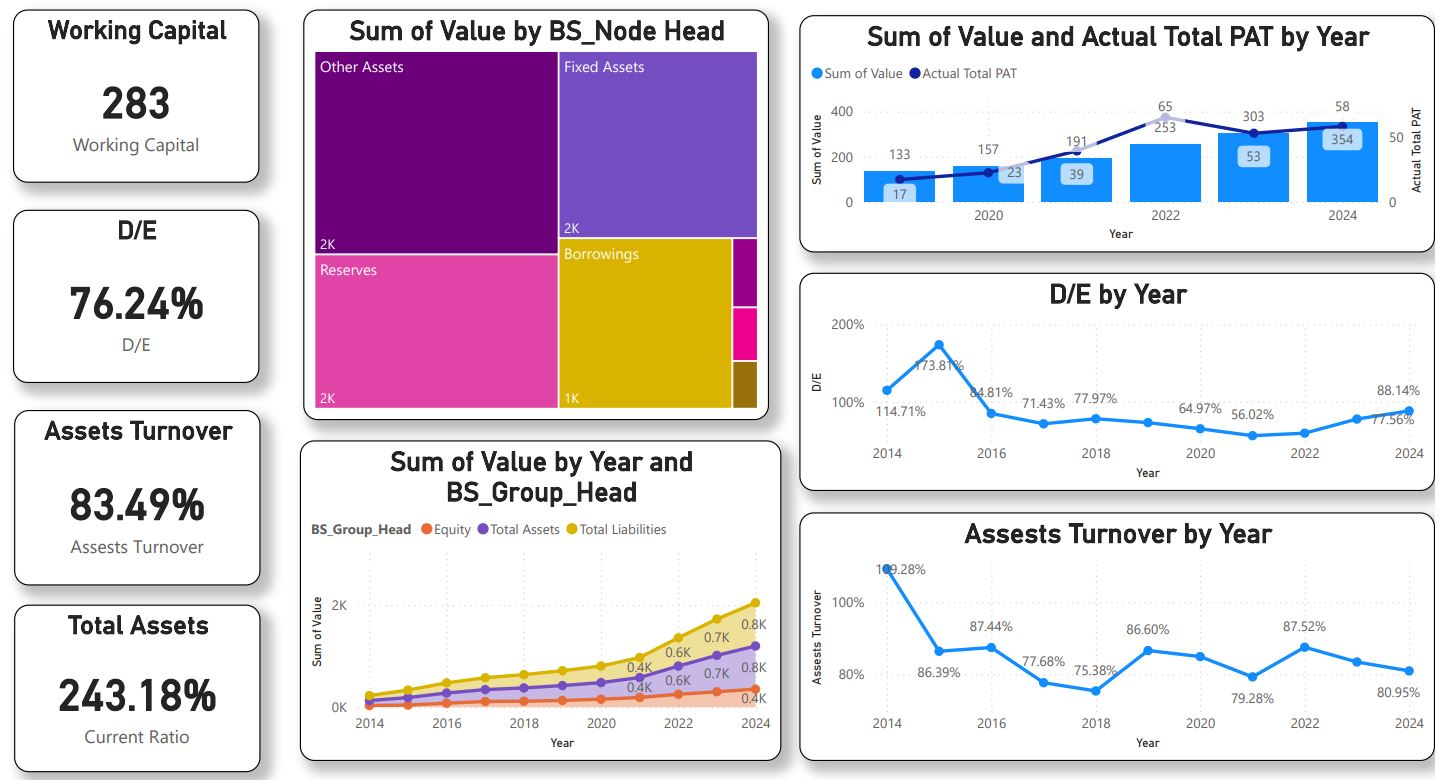

This screenshot's page, from the dashboard's own definition file:
{"tool":"powerbi","page":{"name":"BS Analysis","canvas":[1280,720],"ordinal":6},"visuals":[{"type":"card","title":"D/E","fields":{"Values":["BS Fact.D/E"]},"box":[15.7,206.3,219.6,153.2],"z":0},{"type":"card","title":"Working Capital","fields":{"Values":["BS Fact.Working Capital"]},"box":[15.7,27.7,219.6,154.4],"z":1000},{"type":"card","title":"Total Assets","fields":{"Values":["BS Fact.Current Ratio"]},"box":[16.9,557.4,219.6,148.4],"z":2000},{"type":"card","title":"Assets Turnover","fields":{"Values":["BS Fact.Assests Turnover"]},"box":[16.9,383.6,219.6,156.8],"z":3000},{"type":"treemap","fields":{"Values":["Sum(BS Fact.Value)"],"Group":["BS Fact.BS_Node Head"]},"box":[273.9,27.7,413.8,365.6],"z":4000},{"type":"lineStackedColumnComboChart","fields":{"Y2":["P&L Fact.Actual Total PAT"],"Category":["Date Dim.Date.Variation.Date Hierarchy.Year"],"Y":["Sum(BS Fact.Value)"]},"box":[715.4,32.6,564.6,211.1],"z":5000},{"type":"stackedAreaChart","fields":{"Category":["Date Dim.Date.Variation.Date Hierarchy.Year"],"Y":["Sum(BS Fact.Value)"],"Series":["BS Fact.BS_Group_Head"]},"box":[271.4,411.4,427.1,284.7],"z":6000},{"type":"lineChart","fields":{"Category":["Date Dim.Date.Variation.Date Hierarchy.Year"],"Y":["BS Fact.D/E"]},"box":[715.4,261.8,564.6,194.2],"z":7000},{"type":"lineChart","fields":{"Category":["Date Dim.Date.Variation.Date Hierarchy.Year"],"Y":["BS Fact.Assests Turnover"]},"box":[715.4,475.3,564.6,220.8],"z":8000}]}

Visuals, with their boxes on the page's 1280x720 design canvas (x1, y1, x2, y2). These are canvas units, not pixel positions in the 1450x780 screenshot, which may show the page scaled, cropped or inside an application window:
"D/E" card: [16,206,235,360]
"Working Capital" card: [16,28,235,182]
"Total Assets" card: [17,557,236,706]
"Assets Turnover" card: [17,384,236,540]
treemap - Sum(BS Fact.Value) x BS Fact.BS_Node Head: [274,28,688,393]
lineStackedColumnComboChart - P&L Fact.Actual Total PAT x Date Dim.Date.Variation.Date Hierarchy.Year: [715,33,1280,244]
stackedAreaChart - Date Dim.Date.Variation.Date Hierarchy.Year x Sum(BS Fact.Value): [271,411,698,696]
lineChart - Date Dim.Date.Variation.Date Hierarchy.Year x BS Fact.D/E: [715,262,1280,456]
lineChart - Date Dim.Date.Variation.Date Hierarchy.Year x BS Fact.Assests Turnover: [715,475,1280,696]
